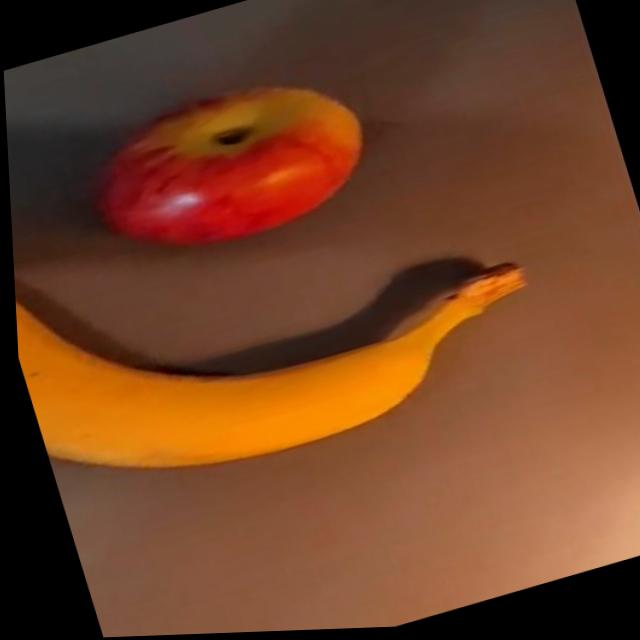Apple: (69, 57, 385, 277)
Banana: (6, 131, 556, 514)
